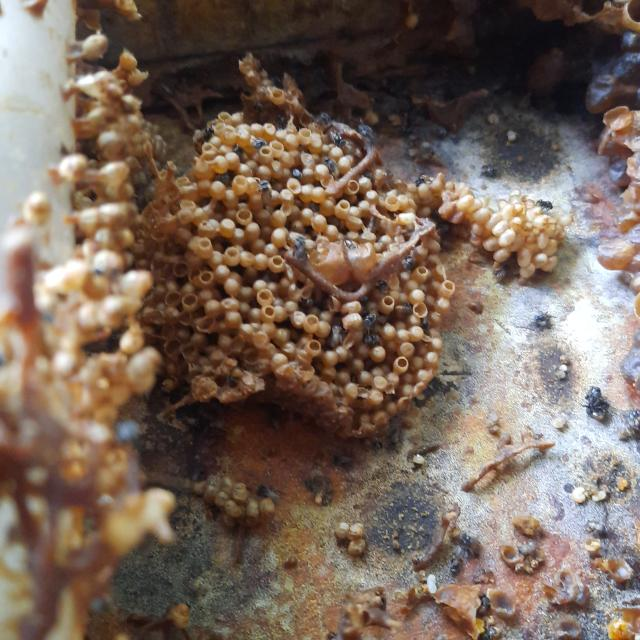honeybee: (295, 237, 311, 264), (256, 486, 280, 502), (256, 181, 274, 202), (478, 166, 502, 181), (360, 125, 376, 147), (449, 552, 461, 578), (495, 266, 511, 282), (537, 198, 553, 212), (326, 156, 338, 174), (401, 256, 415, 270), (537, 312, 550, 327), (255, 139, 268, 152), (366, 336, 381, 347), (366, 312, 374, 328)
